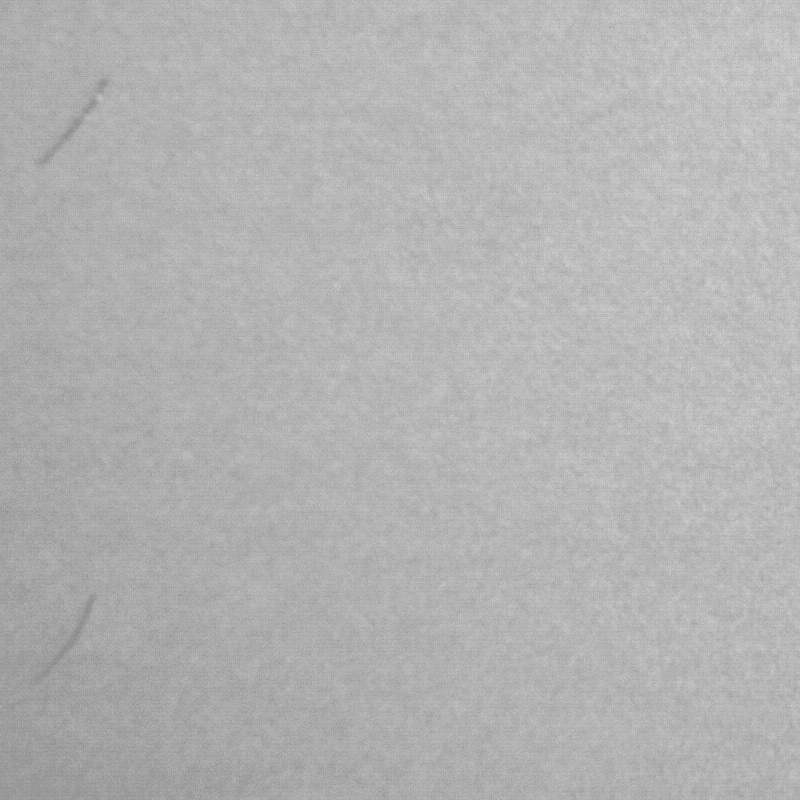defect: (36, 81, 108, 164), (33, 595, 95, 685)
